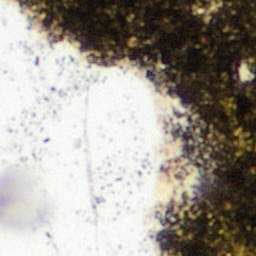cement_matrix: (22, 0, 255, 255), (238, 64, 251, 81)
gravel_crushed_stones: (0, 0, 202, 255), (239, 65, 250, 80)
